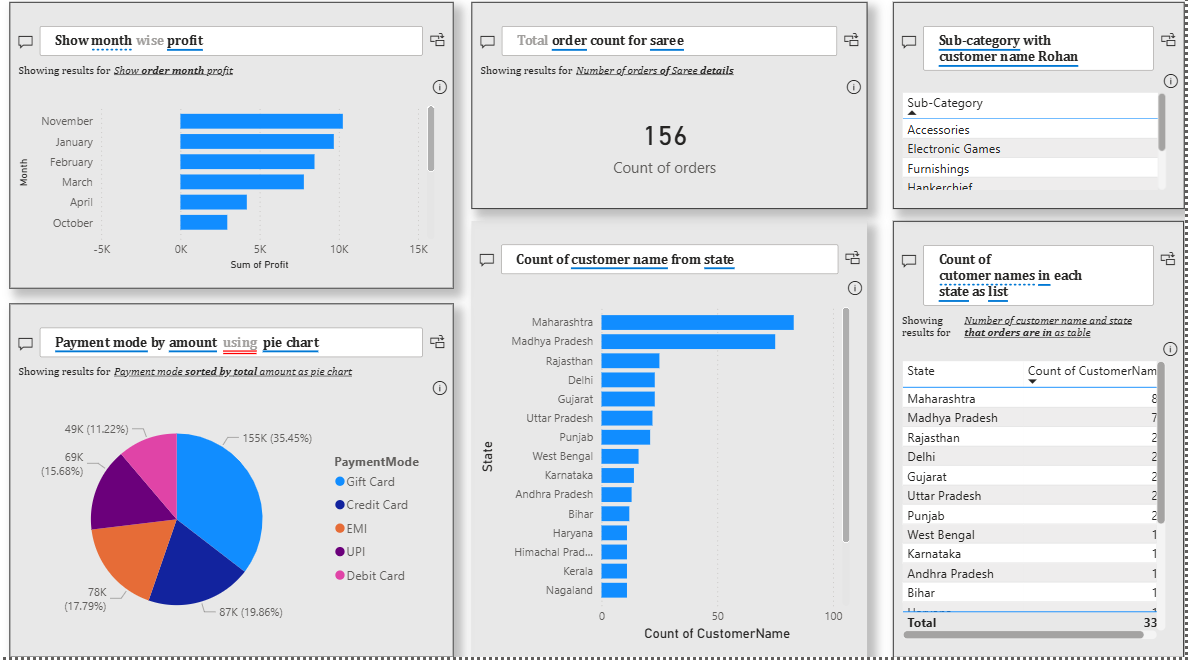

What the dashboard file says about the page in this screenshot:
{"tool":"powerbi","page":{"name":"Analysis using Q&A","canvas":[1280,720],"ordinal":1},"visuals":[{"type":"qnaVisual","box":[11.3,13,479.3,309.3],"z":0},{"type":"qnaVisual","box":[510.1,13,427.5,223.5],"z":1000},{"type":"qnaVisual","box":[11.3,338.4,479.3,382.1],"z":2000},{"type":"qnaVisual","box":[510.1,249.4,427.5,471.2],"z":3000},{"type":"qnaVisual","box":[965.3,13,314.7,223.5],"z":4000},{"type":"qnaVisual","box":[965.1,249.4,314.1,471.2],"z":5000}]}

Visuals, with their boxes in screenshot pixels (x1, y1, x2, y2), scaled from the page's 1280x720 canvas onto the 1190x664 screenshot:
qnaVisual: {"left": 11, "top": 12, "right": 456, "bottom": 297}
qnaVisual: {"left": 474, "top": 12, "right": 872, "bottom": 218}
qnaVisual: {"left": 11, "top": 312, "right": 456, "bottom": 663}
qnaVisual: {"left": 474, "top": 230, "right": 872, "bottom": 663}
qnaVisual: {"left": 897, "top": 12, "right": 1189, "bottom": 218}
qnaVisual: {"left": 897, "top": 230, "right": 1189, "bottom": 663}
